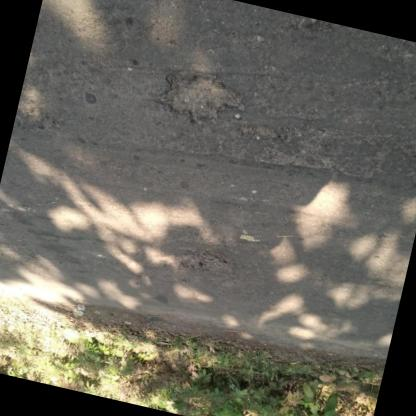pothole: (152, 63, 247, 135), (175, 244, 237, 284)
